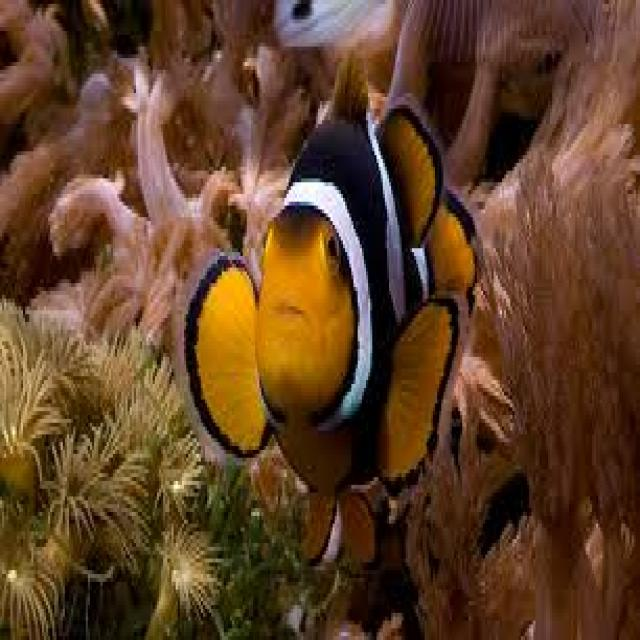Amphiprion-percula: (173, 66, 527, 518)
